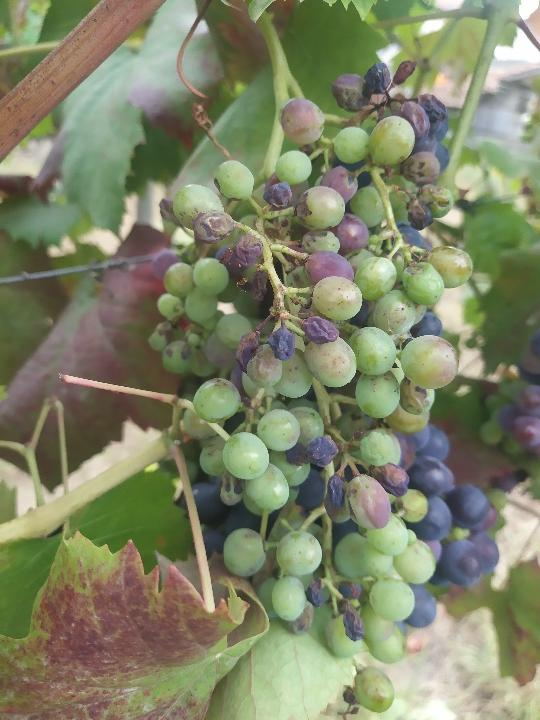grape: (151, 58, 500, 713)
